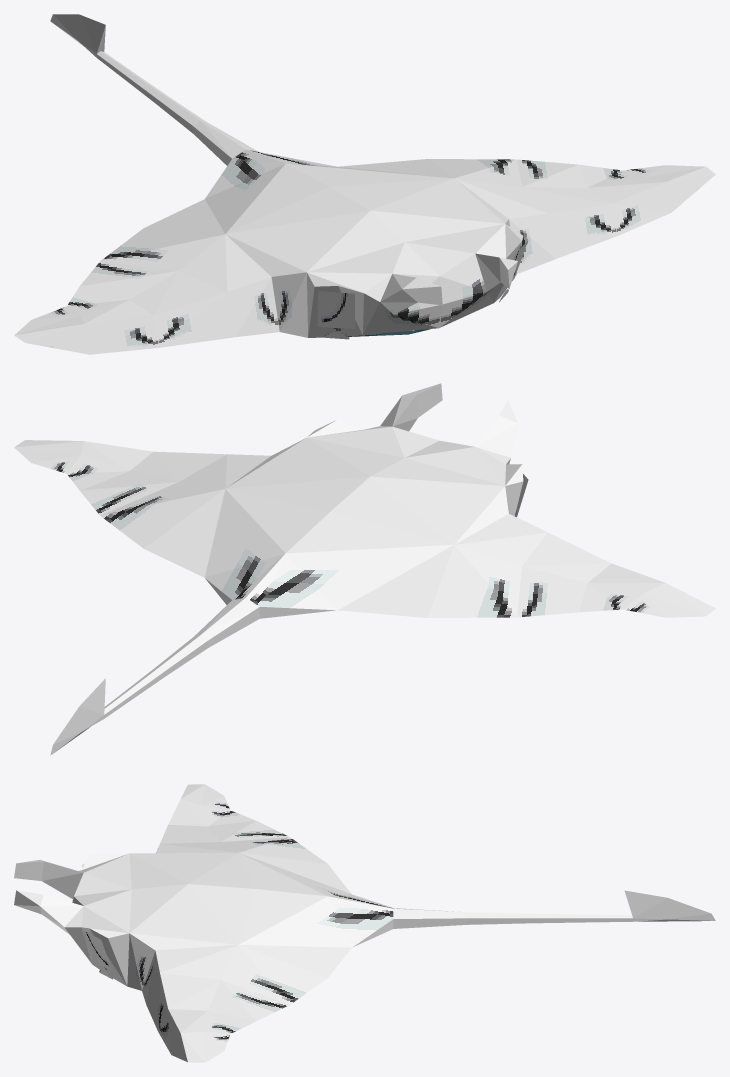
File: manta.obj
The picture shows the model from 3 angles, top to bottom: view 1: azimuth 30°, elevation 25°; view 2: azimuth 150°, elevation 25°; view 3: azimuth 270°, elevation 25°; orthographic projection. The views are drawn at different scales.
Parts seen in each view (by area): view 1: skl_root, wing_1_l, wing_1_r, wing_2_L, wing_2_r, wing_3_r, wing_3_l, tail_4, tail_1; view 2: skl_root, wing_1_l, wing_1_r, tail_1, wing_2_L, tail_4, wing_2_r, wing_3_r, wing_3_l; view 3: skl_root, wing_1_l, wing_1_r, tail_1, wing_2_L, wing_3_l, tail_4, wing_2_r.
Boxes of the visible parts, bbox=[...] form: skl_root: bbox=[15, 14, 705, 354]; wing_1_l: bbox=[286, 159, 616, 273]; wing_1_r: bbox=[80, 199, 235, 347]; wing_2_L: bbox=[588, 170, 671, 235]; wing_2_r: bbox=[67, 299, 159, 354]; wing_3_r: bbox=[14, 315, 89, 354]; wing_3_l: bbox=[644, 165, 715, 212]; tail_4: bbox=[53, 14, 131, 71]; tail_1: bbox=[165, 96, 284, 163]; skl_root: bbox=[14, 383, 705, 755]; wing_1_l: bbox=[80, 451, 328, 577]; wing_1_r: bbox=[338, 532, 611, 617]; tail_1: bbox=[163, 554, 335, 663]; wing_2_L: bbox=[67, 441, 152, 473]; tail_4: bbox=[53, 678, 127, 751]; wing_2_r: bbox=[588, 583, 665, 609]; wing_3_r: bbox=[644, 583, 715, 617]; wing_3_l: bbox=[14, 440, 82, 462]; skl_root: bbox=[14, 784, 710, 1061]; wing_1_l: bbox=[142, 889, 351, 1031]; wing_1_r: bbox=[160, 820, 351, 893]; tail_1: bbox=[339, 898, 531, 946]; wing_2_L: bbox=[158, 1009, 229, 1054]; wing_3_l: bbox=[171, 1032, 223, 1062]; tail_4: bbox=[587, 898, 715, 922]; wing_2_r: bbox=[181, 799, 229, 825].
Size of the model in its own units: 151 by 23.71 by 161.
2 materials, 2 textured.
